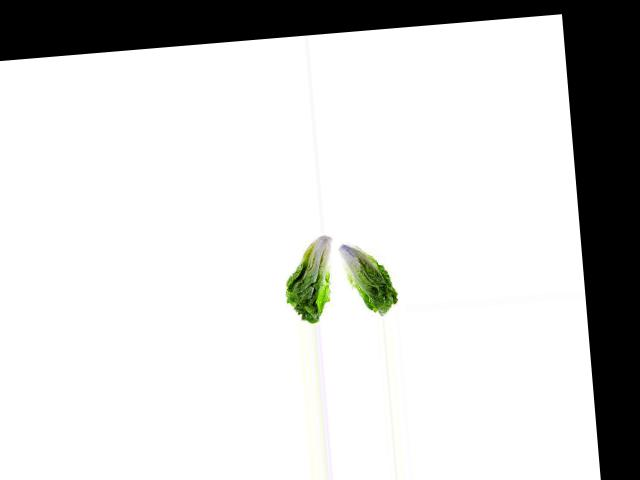lettuce: (337, 231, 400, 317)
